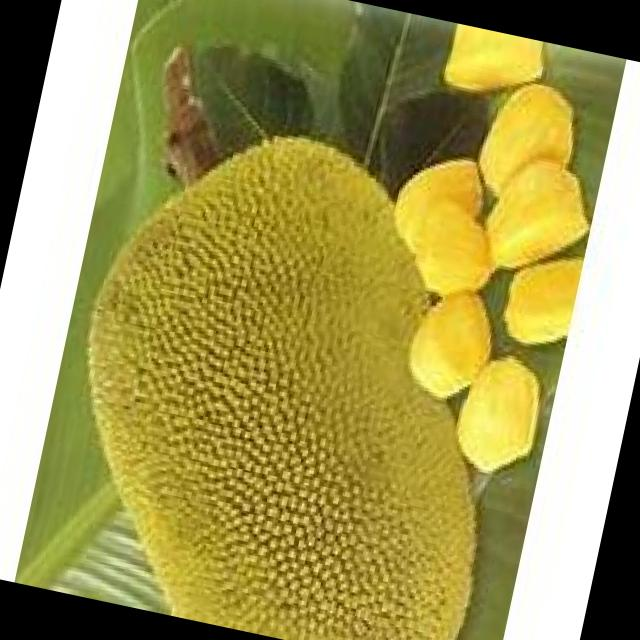Fruit: (27, 214, 549, 640)
